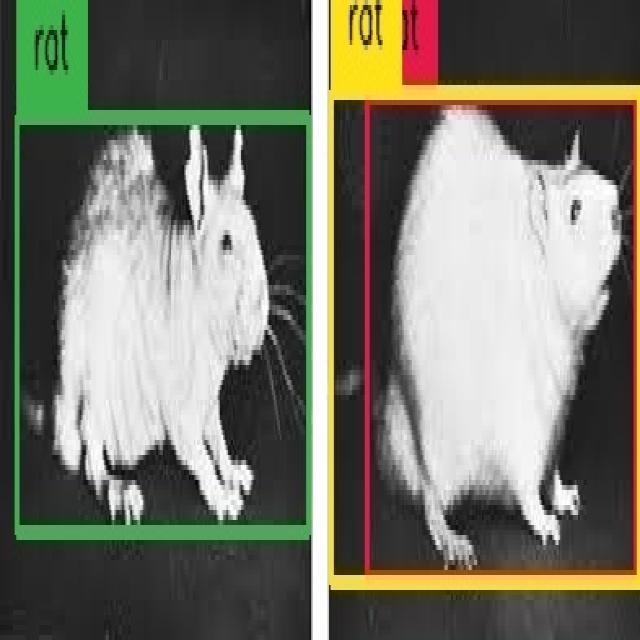rat: (330, 92, 640, 582), (366, 95, 637, 580), (18, 118, 309, 532)
